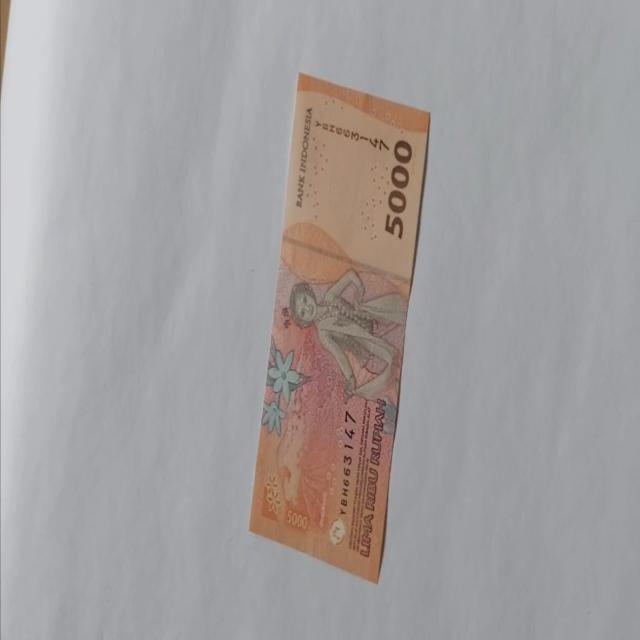lima ribu rupiah: (247, 70, 431, 584)
